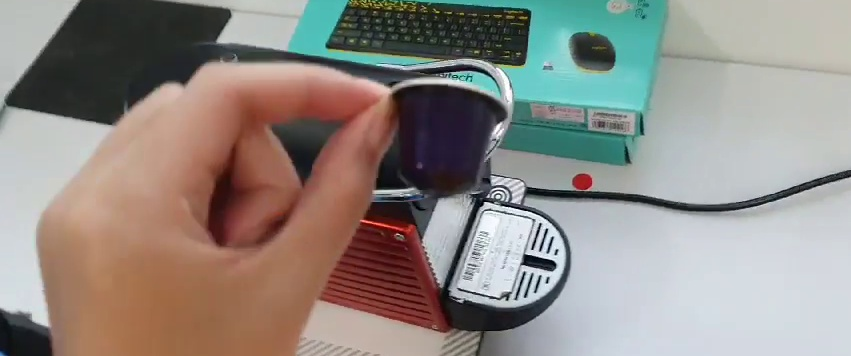capsule_2: (381, 74, 510, 195)
